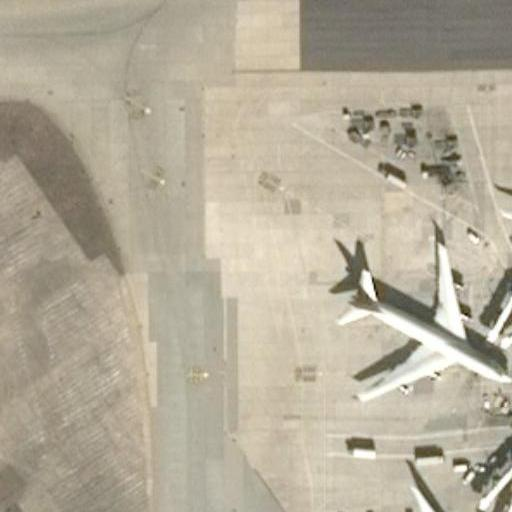Aircraft: (321, 235, 512, 397), (326, 469, 512, 512), (489, 109, 512, 314)
